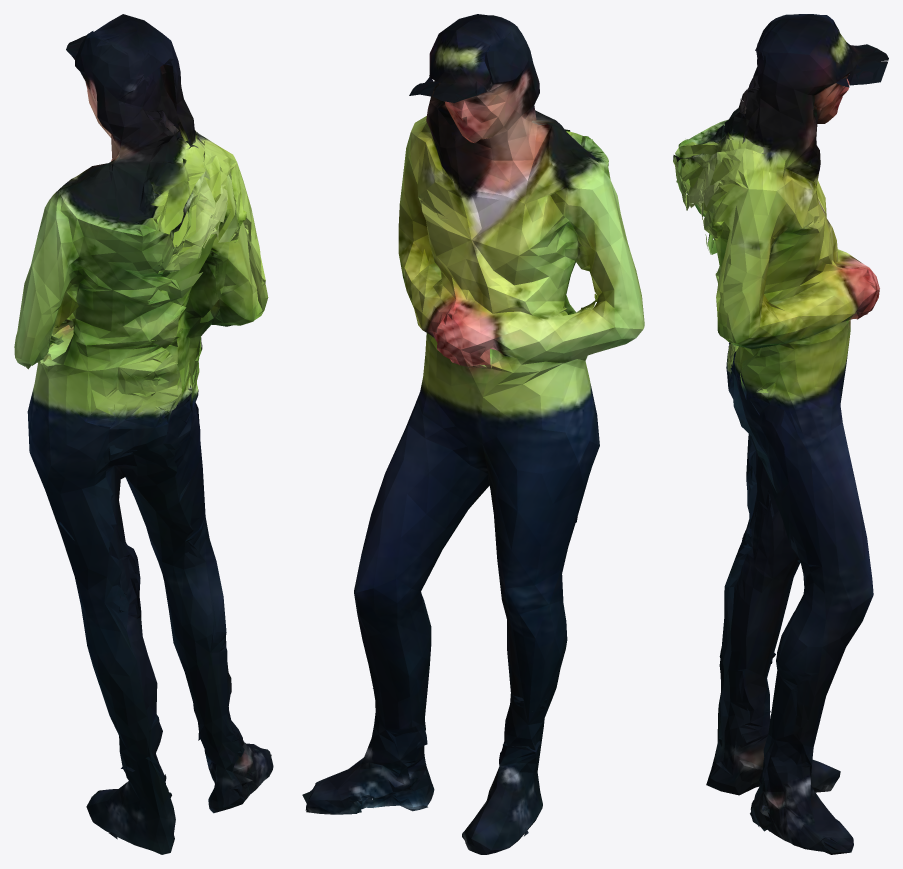
3 views of the same model, side by side, from view 1: azimuth 30°, elevation 25°; view 2: azimuth 150°, elevation 25°; view 3: azimuth 270°, elevation 25° (orthographic). The views are drawn at different scales.
Visible parts, largest first — view 1: dec_0003; view 2: dec_0003; view 3: dec_0003.
Boxes of the visible parts, x1,y1,x2,y2 form: dec_0003: (14, 14, 273, 854); dec_0003: (302, 14, 644, 854); dec_0003: (673, 14, 888, 854).
Bounding box in the file's own units: 0.683 × 1.76 × 0.4451.
1 material, 1 textured.
